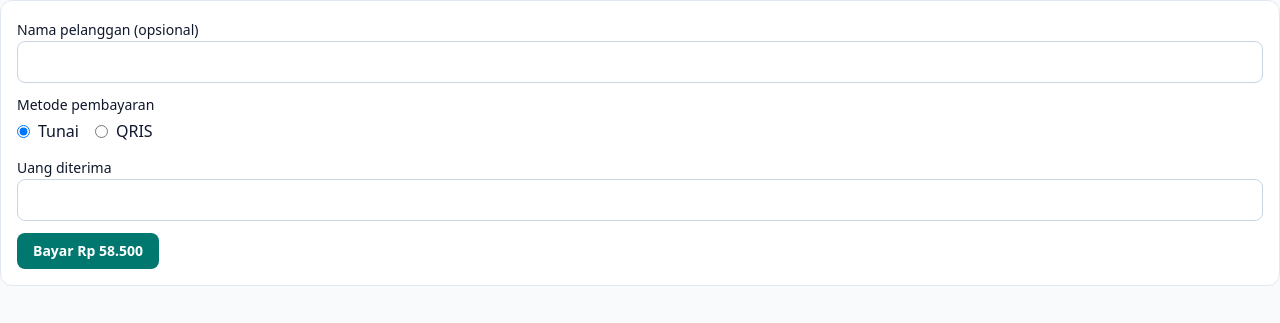
Test: FormPembayaran (React Hook Form + Zod) › menolak uang kurang dan tidak memanggil onBayar
The width and height of the screenshot is (1280, 323).
In the number field labelled "Uang diterima": (640, 200) [17,179,1263,221], type "50000"
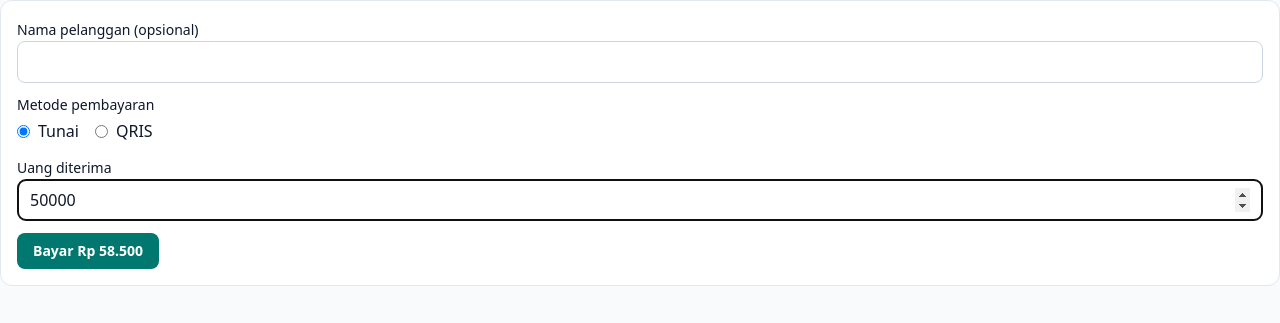
Click the button "Bayar Rp 58.500": (88, 251) [17,233,159,269]
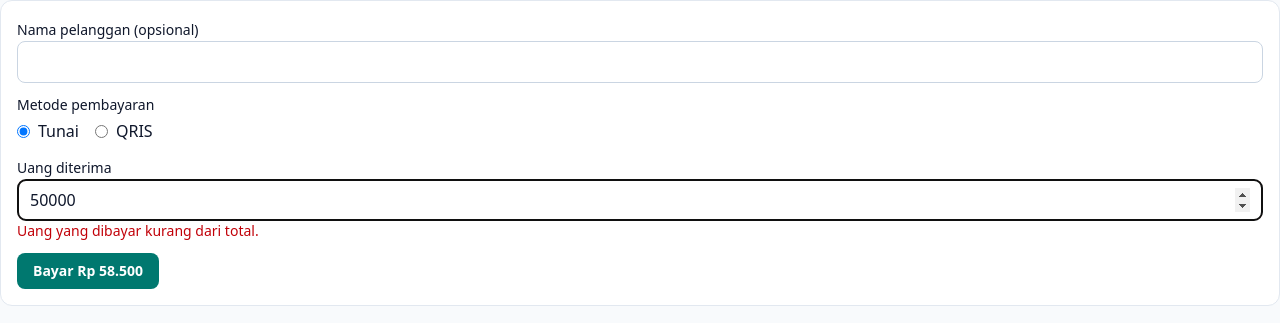
Check: the text "Uang yang dibayar kurang dari total." is shown, box [17,221,259,240]
